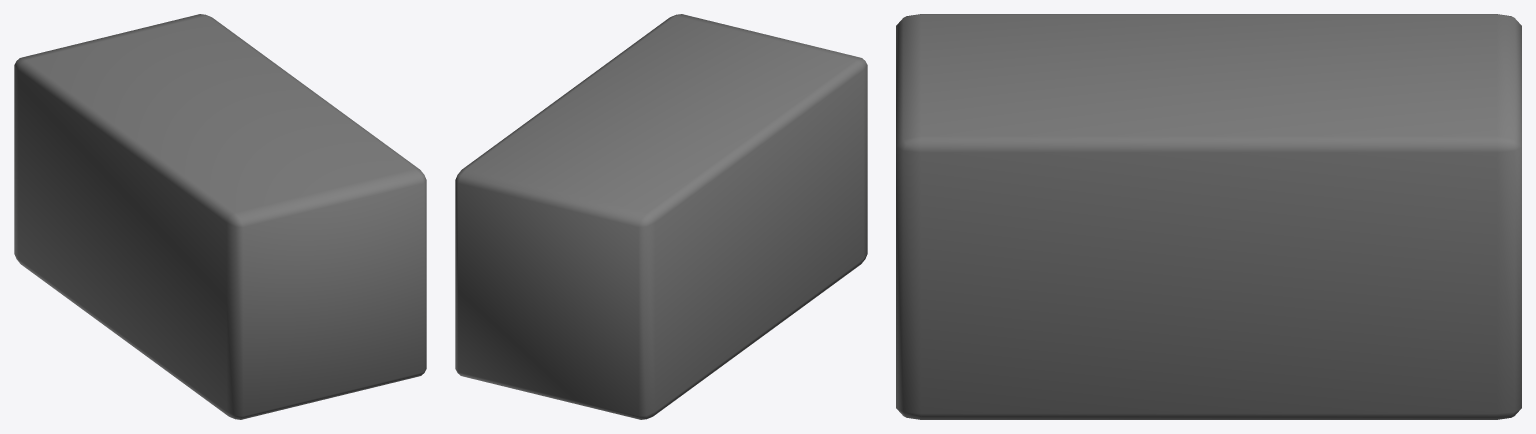
Rendered from HouseCube_10.fbx.
The picture shows the model from 3 angles, left to right: view 1: azimuth 30°, elevation 25°; view 2: azimuth 150°, elevation 25°; view 3: azimuth 270°, elevation 25°; orthographic projection. The views are drawn at different scales.
Visible parts, largest first — view 1: HouseCube_10; view 2: HouseCube_10; view 3: HouseCube_10.
Part boxes in pixels (x1=…): HouseCube_10: x1=14, y1=14, x2=426, y2=419; HouseCube_10: x1=455, y1=14, x2=867, y2=419; HouseCube_10: x1=896, y1=14, x2=1521, y2=419.
Size of the model in its own units: 0.5 by 0.5 by 1.
